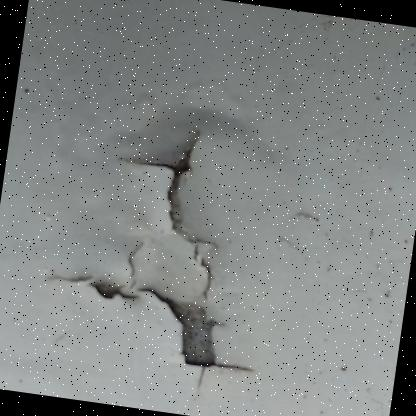Crack: (11, 73, 346, 415)
